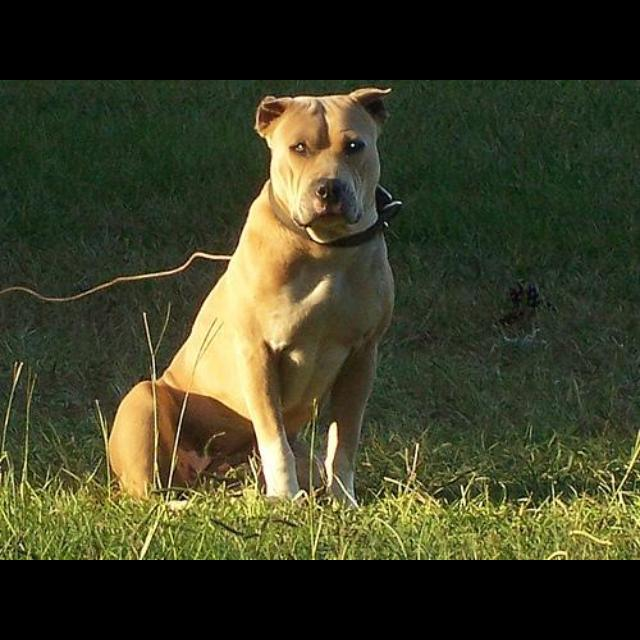amstaff: (106, 87, 402, 514)
